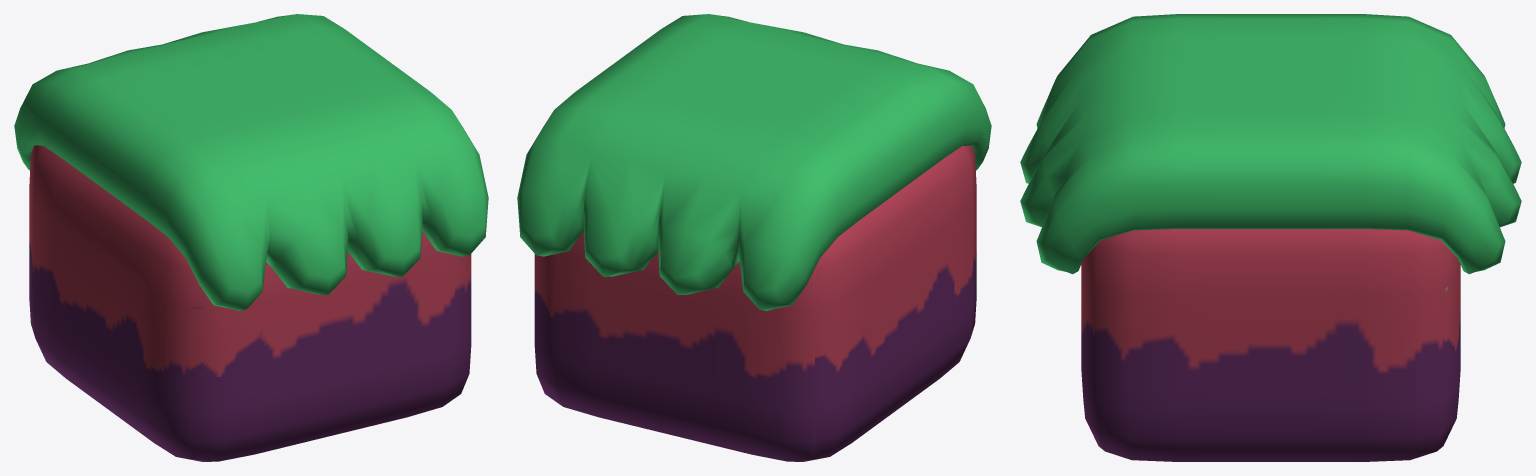
Rendered from block_3.obj.
The picture shows the model from 3 angles, left to right: view 1: azimuth 30°, elevation 25°; view 2: azimuth 150°, elevation 25°; view 3: azimuth 270°, elevation 25°; orthographic projection. The views are drawn at different scales.
Visible parts, largest first — view 1: Cube.003_Cube.004, Cube.001_Cube.002; view 2: Cube.003_Cube.004, Cube.001_Cube.002; view 3: Cube.003_Cube.004, Cube.001_Cube.002.
Part boxes in pixels (x1,y1,x2,y2): Cube.003_Cube.004: [14, 14, 488, 310]; Cube.001_Cube.002: [29, 145, 471, 461]; Cube.003_Cube.004: [517, 14, 991, 310]; Cube.001_Cube.002: [534, 145, 976, 461]; Cube.003_Cube.004: [1020, 14, 1521, 274]; Cube.001_Cube.002: [1081, 229, 1460, 461].
Size of the model in its own units: 2 by 1.91 by 2.64.
